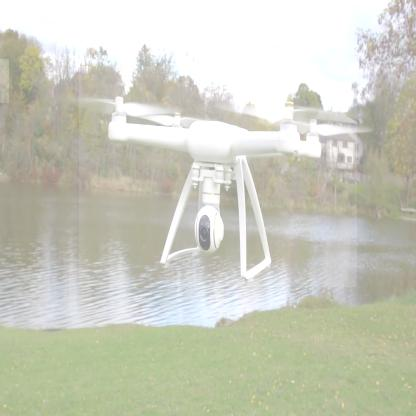Drone: (79, 66, 357, 287), (0, 59, 9, 103)
